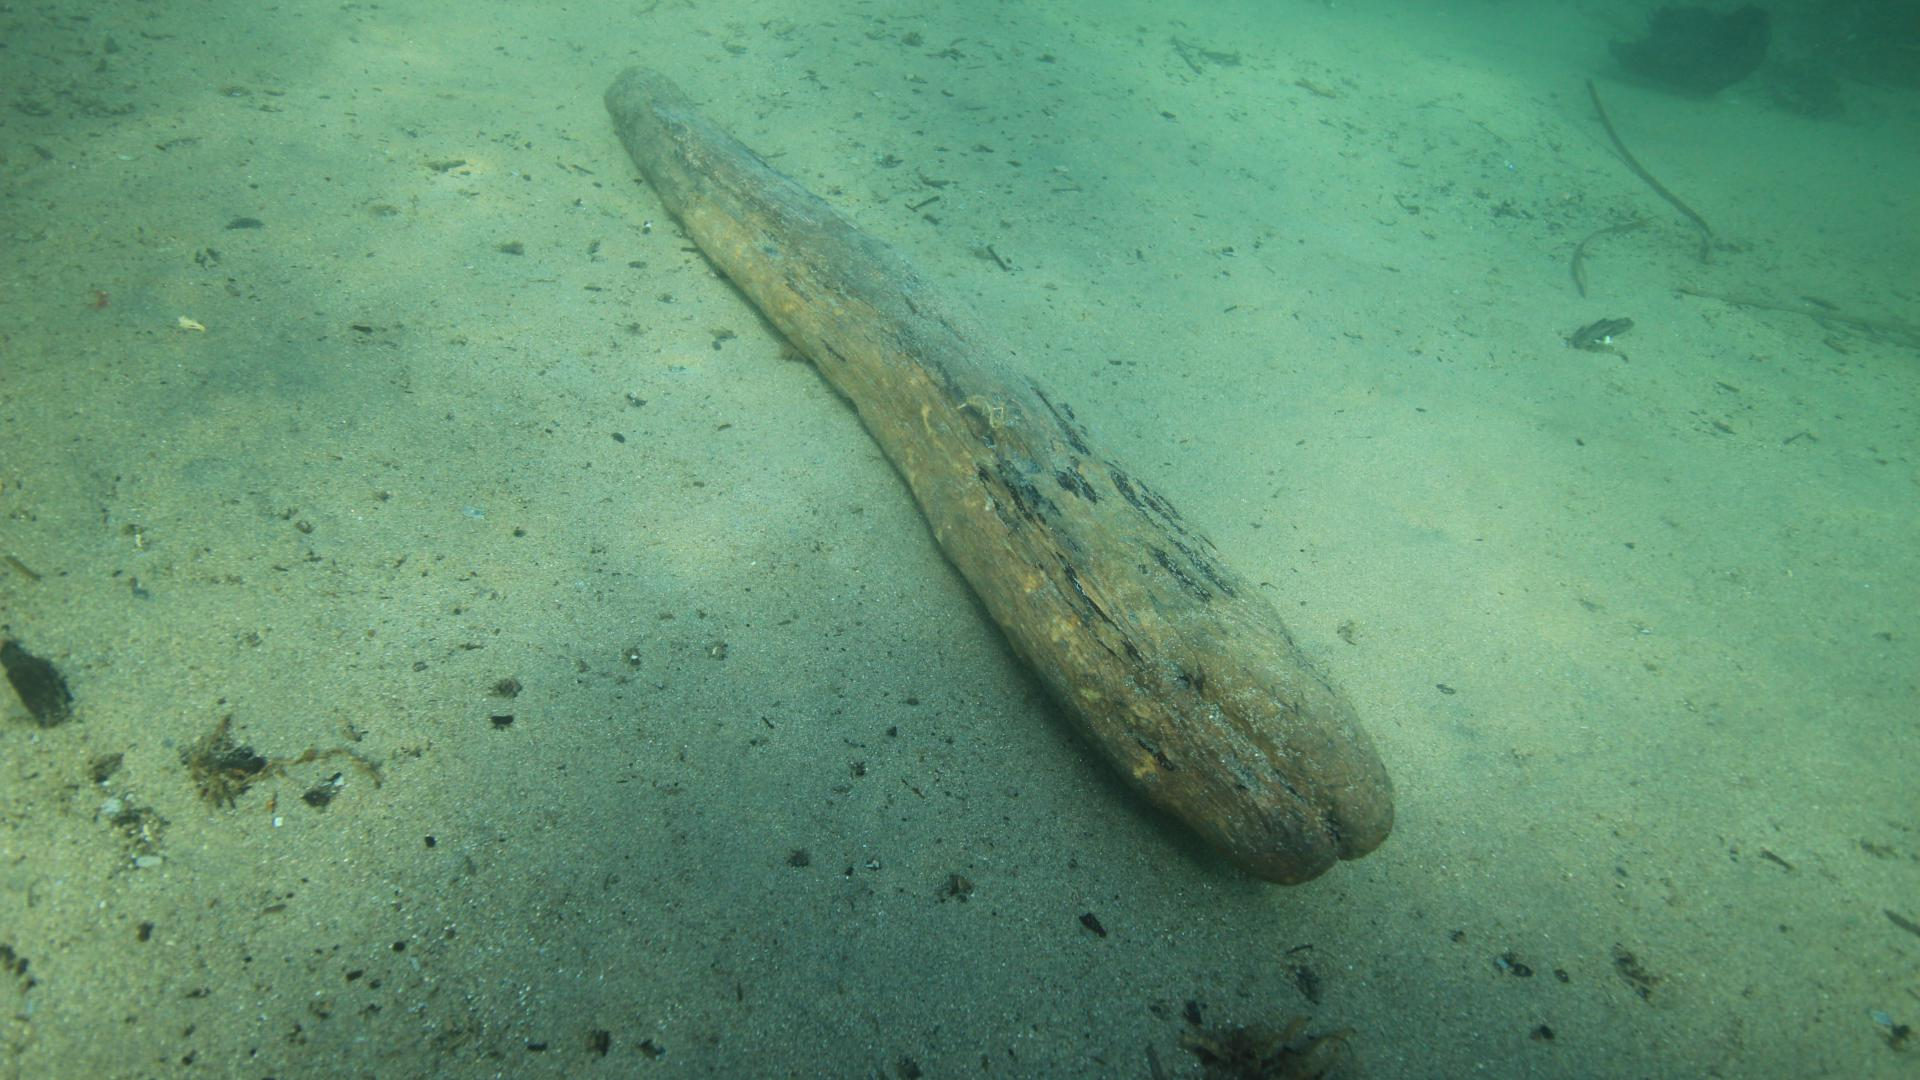wood: (603, 63, 1395, 884)
